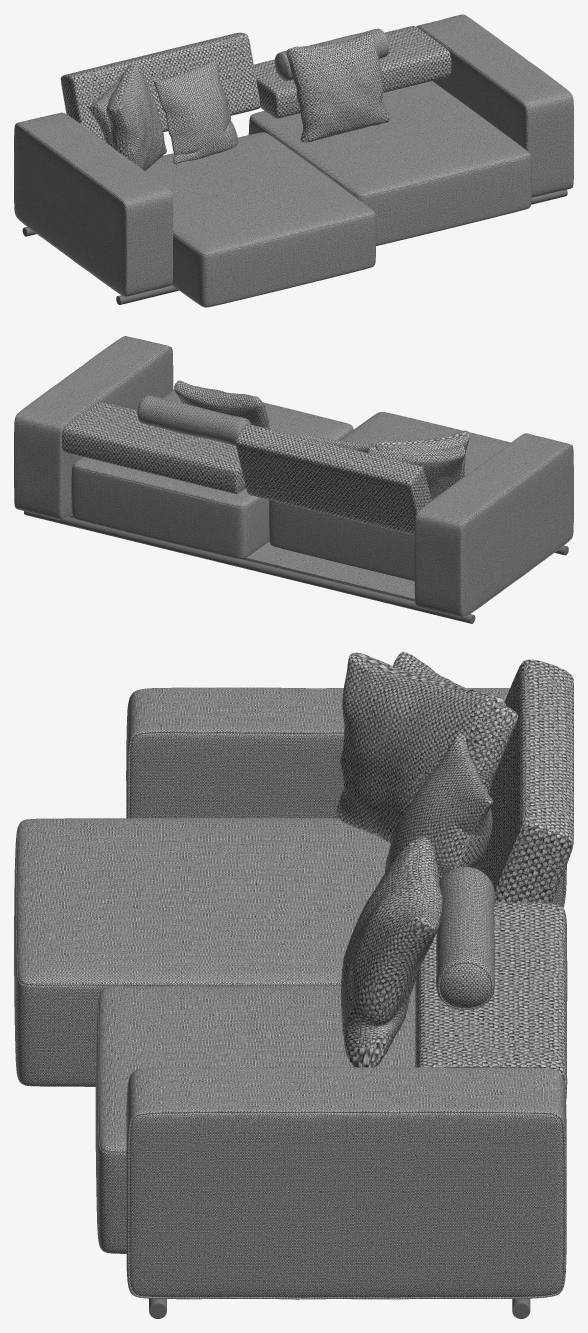
File: 3DSTYLISH-fsb001.obj
3 renders of one model, top to bottom at view 1: azimuth 30°, elevation 25°; view 2: azimuth 150°, elevation 25°; view 3: azimuth 270°, elevation 25°, orthographic. The views are drawn at different scales.
Visible parts, largest first — view 1: 3dstylish09, 3dstylish00, 3dstylish04, 3dstylish06, 3dstylish05, 3dstylish08, 3dstylish07, 3dstylish02; view 2: 3dstylish09, 3dstylish00, 3dstylish03, 3dstylish01, 3dstylish07, 3dstylish08, 3dstylish04, 3dstylish05, 3dstylish06; view 3: 3dstylish09, 3dstylish00, 3dstylish05, 3dstylish04, 3dstylish06, 3dstylish07, 3dstylish08.
Boxes of the visible parts, bbox=[...] form: 3dstylish09: bbox=[14, 14, 573, 307]; 3dstylish00: bbox=[60, 26, 451, 141]; 3dstylish04: bbox=[286, 32, 389, 142]; 3dstylish06: bbox=[153, 59, 238, 163]; 3dstylish05: bbox=[106, 65, 153, 169]; 3dstylish08: bbox=[89, 65, 166, 170]; 3dstylish07: bbox=[274, 28, 389, 80]; 3dstylish02: bbox=[116, 189, 567, 304]; 3dstylish09: bbox=[14, 336, 573, 617]; 3dstylish00: bbox=[62, 401, 431, 535]; 3dstylish03: bbox=[24, 511, 475, 623]; 3dstylish01: bbox=[69, 514, 414, 601]; 3dstylish07: bbox=[137, 395, 251, 446]; 3dstylish08: bbox=[367, 445, 465, 499]; 3dstylish04: bbox=[174, 380, 270, 429]; 3dstylish05: bbox=[375, 430, 469, 478]; 3dstylish06: bbox=[297, 434, 374, 452]; 3dstylish09: bbox=[14, 687, 566, 1299]; 3dstylish00: bbox=[415, 659, 573, 1101]; 3dstylish05: bbox=[336, 652, 505, 868]; 3dstylish04: bbox=[340, 837, 442, 1067]; 3dstylish06: bbox=[385, 733, 493, 881]; 3dstylish07: bbox=[435, 866, 495, 1009]; 3dstylish08: bbox=[374, 652, 518, 843].
Bounding box in the file's own units: 252 × 81.2 × 140.
